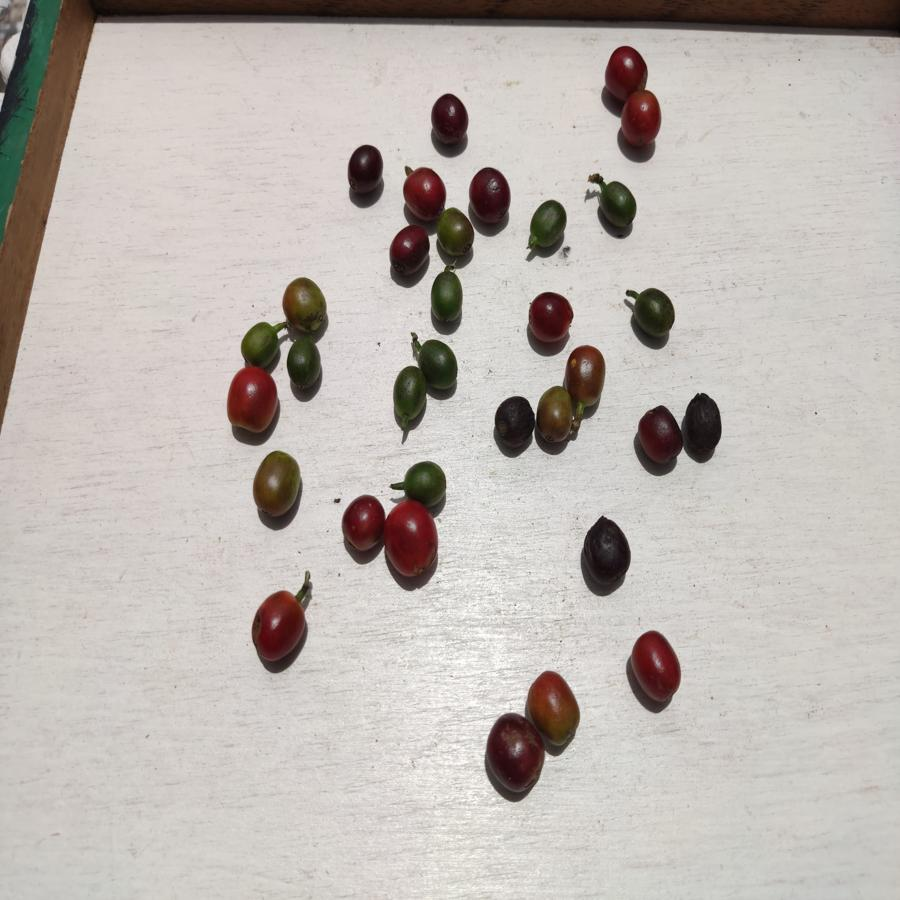Inmaduro: (627, 284, 684, 342), (416, 336, 461, 393), (595, 183, 641, 235), (390, 366, 432, 422), (280, 337, 328, 386), (525, 197, 568, 250), (432, 269, 467, 324), (236, 322, 283, 362), (399, 463, 450, 497)
Maduro: (249, 587, 315, 665), (388, 499, 440, 584), (629, 629, 686, 703), (220, 367, 281, 431), (341, 492, 385, 558), (615, 92, 667, 147), (605, 44, 646, 102), (402, 168, 448, 214)
Pinton: (526, 673, 583, 745), (253, 450, 304, 522), (565, 345, 612, 412), (536, 383, 575, 447), (283, 278, 327, 332), (435, 206, 480, 256)
Sobremaduro: (485, 711, 545, 792), (585, 519, 635, 588), (636, 406, 683, 466), (681, 392, 725, 455), (469, 165, 512, 228), (524, 290, 571, 343), (430, 92, 472, 150), (494, 394, 535, 448), (387, 224, 429, 275), (348, 142, 385, 197)
